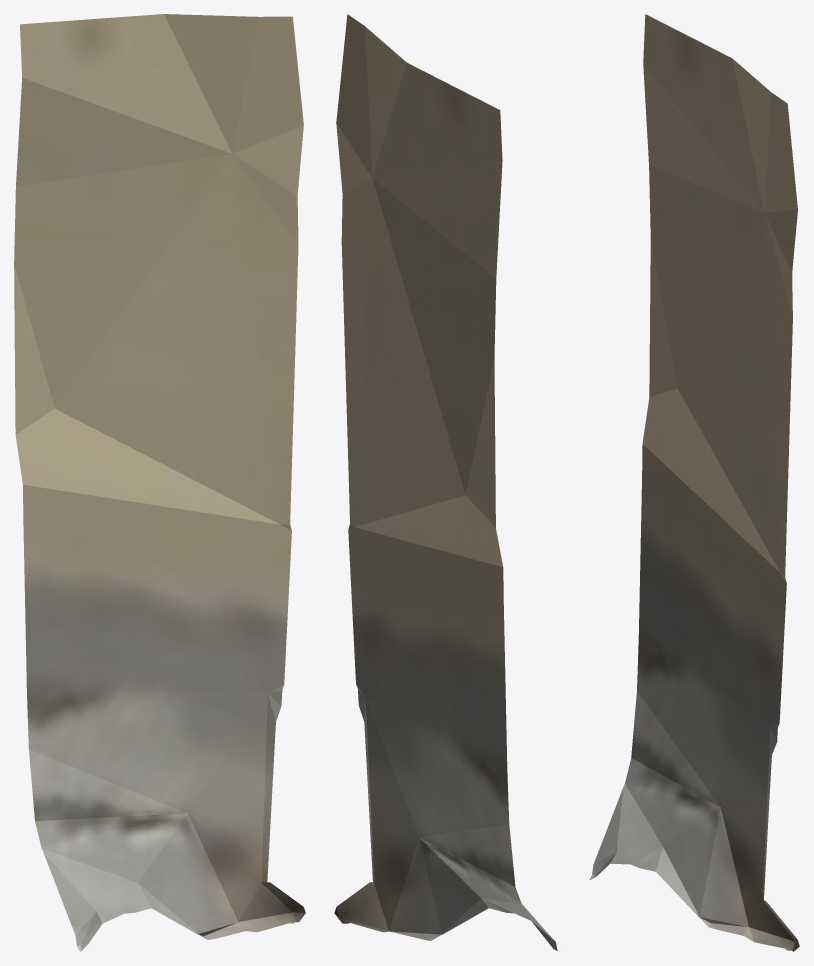
3 renders of one model, left to right at view 1: azimuth 30°, elevation 25°; view 2: azimuth 150°, elevation 25°; view 3: azimuth 330°, elevation 25°, orthographic. The views are drawn at different scales.
Bounding box in the file's own units: 0.2181 × 0.8374 × 0.1104.
Materials: 1 (1 with a texture image).
